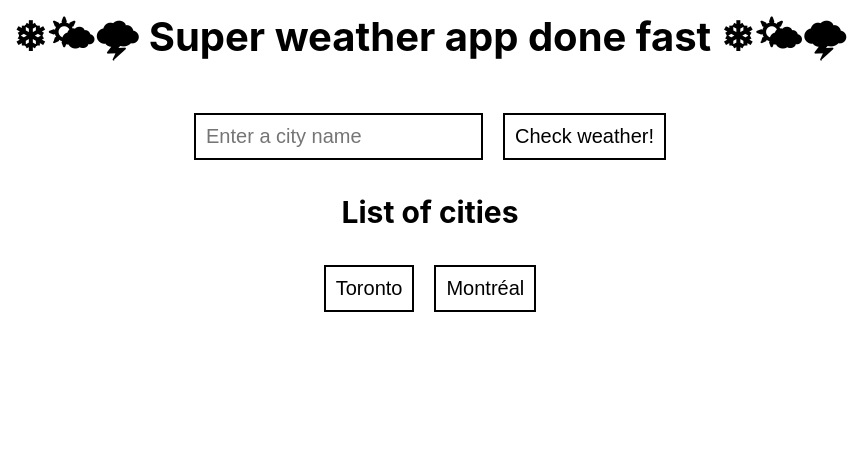
Test: Weather app flow › should show a judgy message if we search for a city that doesnt exist
The width and height of the screenshot is (864, 461).
Type "potato" into the field with placeholder "Enter a city name". click: (339,137)
box: [194,113,483,160]
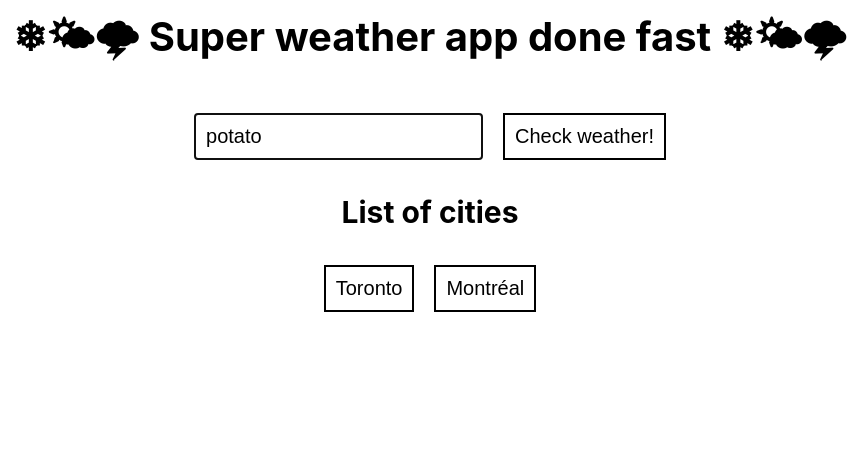
Press Enter in the field, box [194,113,483,160]
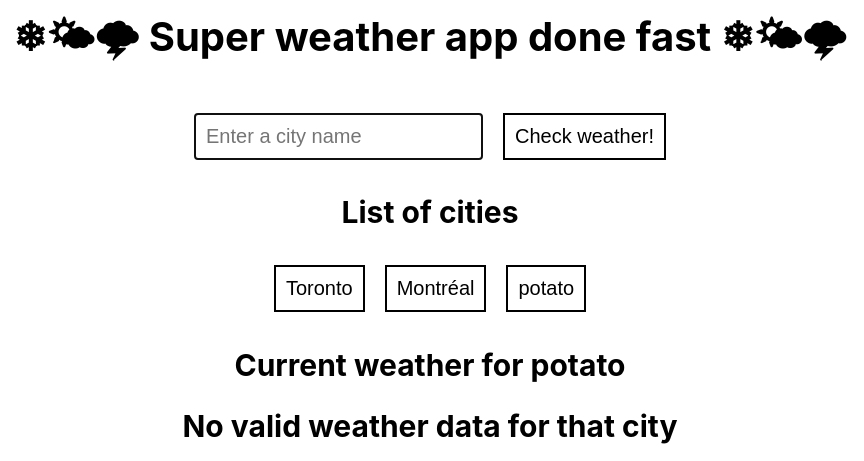
Now the heading "No valid weather data for that city" is shown, box [182,408,678,444]
